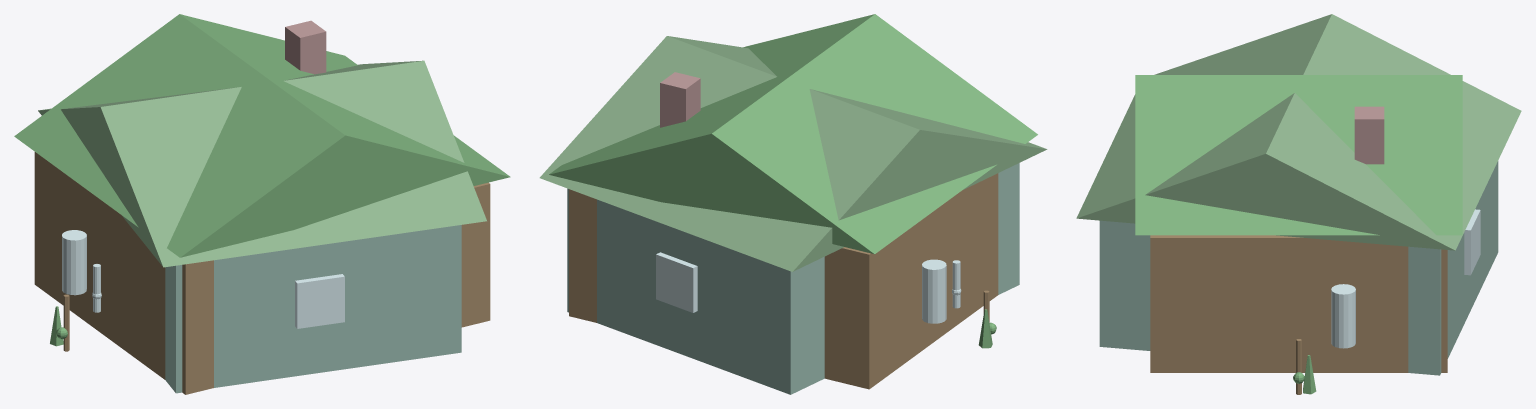
File: house_artemis.glb
3 views of the same model, side by side, from view 1: azimuth 30°, elevation 25°; view 2: azimuth 150°, elevation 25°; view 3: azimuth 270°, elevation 25° (orthographic).
Parts seen in each view (by area): view 1: artemis_atap.003, artemis_atap.002, artemis_dinding.002, artemis_dinding.003, artemis_jendela_-1.001, artemis_cerobong.001, artemis_jendela-1.001; view 2: artemis_atap.003, artemis_atap.002, artemis_dinding.002, artemis_dinding.003, artemis_jendela_1.001, artemis_cerobong.001, artemis_jendela-1.001; view 3: artemis_atap.002, artemis_dinding.003, artemis_atap.003, artemis_dinding.002, artemis_cerobong.001, artemis_jendela1.001, artemis_jendela_1.001.
Part boxes in pixels (left/top/right/bottom): artemis_atap.003: left=14, top=14, right=510, bottom=257; artemis_atap.002: left=38, top=60, right=486, bottom=267; artemis_dinding.002: left=165, top=225, right=461, bottom=393; artemis_dinding.003: left=34, top=152, right=490, bottom=394; artemis_jendela_-1.001: left=295, top=274, right=344, bottom=328; artemis_cerobong.001: left=285, top=20, right=326, bottom=74; artemis_jendela-1.001: left=62, top=230, right=86, bottom=295; artemis_atap.003: left=549, top=14, right=1037, bottom=254; artemis_atap.002: left=539, top=36, right=1047, bottom=271; artemis_dinding.002: left=567, top=163, right=1019, bottom=394; artemis_dinding.003: left=569, top=173, right=998, bottom=389; artemis_jendela_1.001: left=656, top=252, right=697, bottom=312; artemis_cerobong.001: left=660, top=72, right=700, bottom=127; artemis_jendela-1.001: left=922, top=259, right=946, bottom=323; artemis_atap.002: left=1076, top=14, right=1521, bottom=250; artemis_dinding.003: left=1150, top=235, right=1447, bottom=372; artemis_atap.003: left=1135, top=75, right=1462, bottom=235; artemis_dinding.002: left=1099, top=161, right=1498, bottom=375; artemis_cerobong.001: left=1354, top=106, right=1384, bottom=164; artemis_jendela1.001: left=1331, top=284, right=1355, bottom=348; artemis_jendela_1.001: left=1464, top=209, right=1480, bottom=275.
Bounding box in the file's own units: 9.49 × 5 × 8.98.
